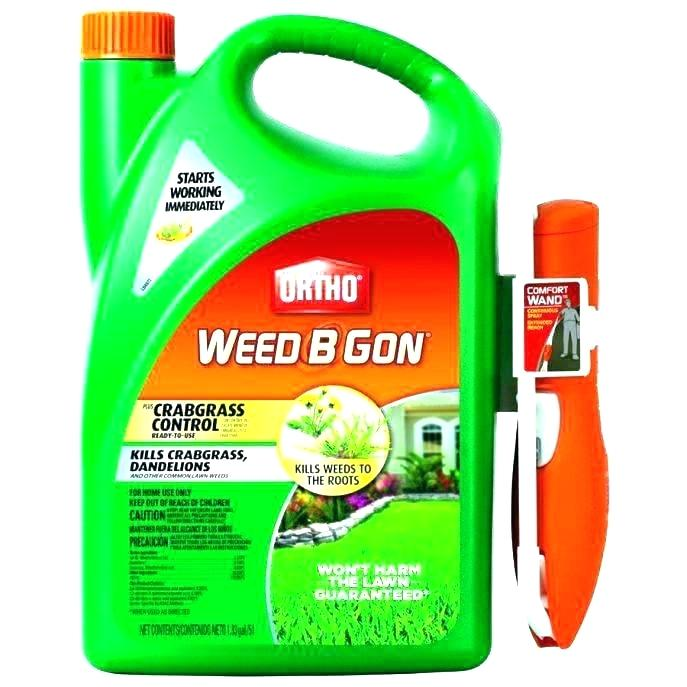crabgrass: (326, 423, 373, 462)
